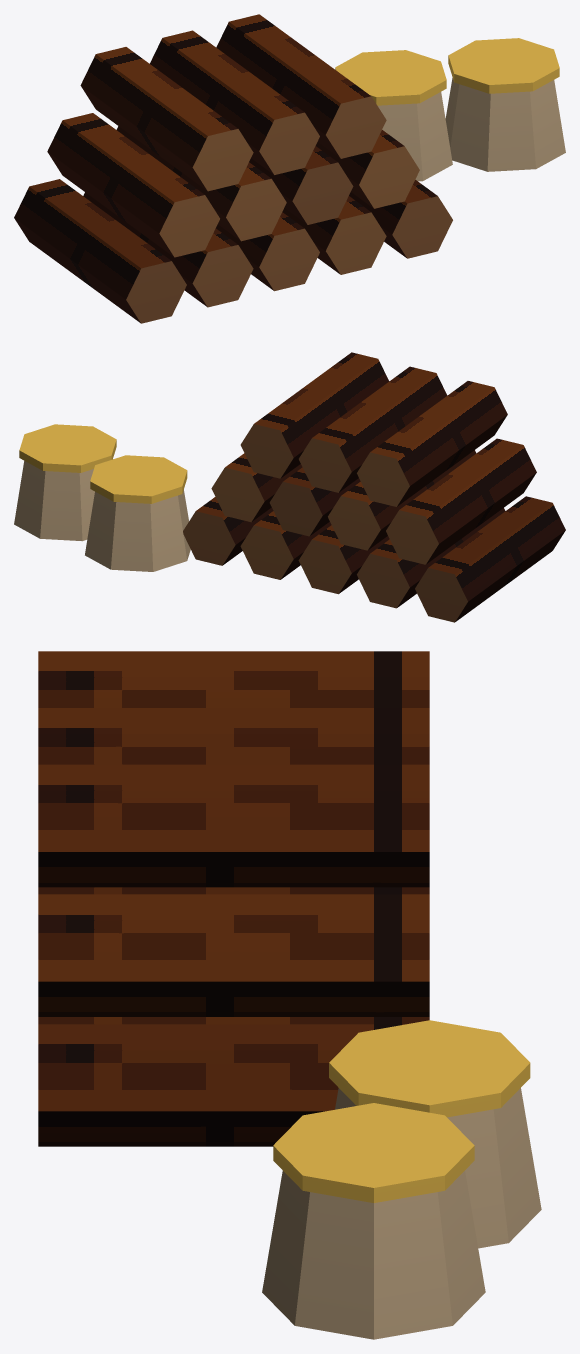
Rendered from den_woodpile.glb.
3 renders of one model, top to bottom at view 1: azimuth 30°, elevation 25°; view 2: azimuth 150°, elevation 25°; view 3: azimuth 270°, elevation 25°, orthographic. The views are drawn at different scales.
Visible parts, largest first — view 1: den_woodpile; view 2: den_woodpile; view 3: den_woodpile.
Boxes of the visible parts, box(x1,y1,x2,y2) form: den_woodpile: box(14, 14, 565, 323); den_woodpile: box(14, 352, 565, 622); den_woodpile: box(38, 651, 541, 1339).
Size of the model in its own units: 1.91 by 0.6053 by 0.9.
Materials: 2 (1 with a texture image).
